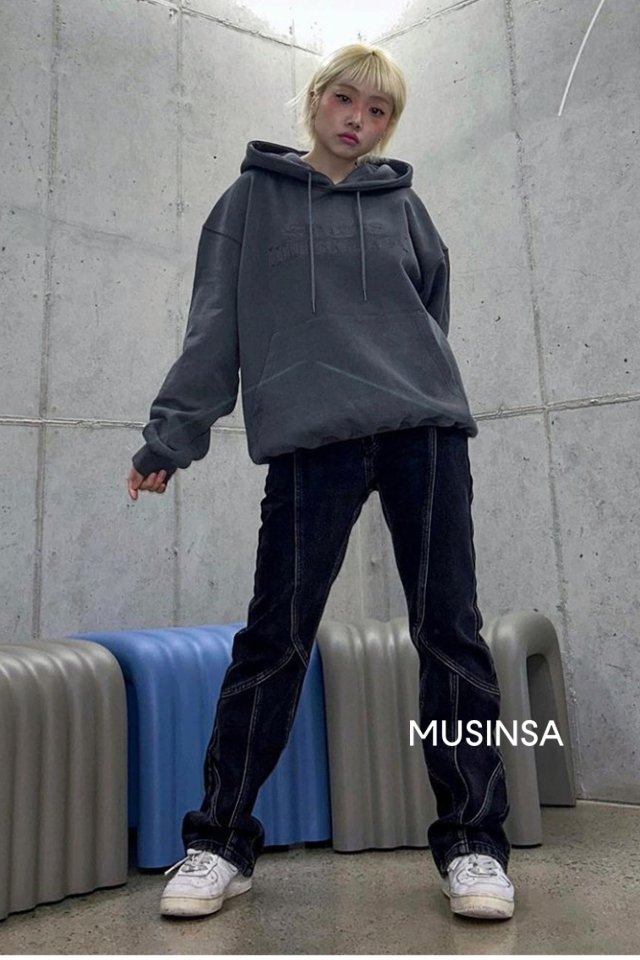Hoodie: (130, 133, 507, 455)
Pants: (175, 414, 534, 869)
Shoes: (151, 836, 524, 929)
